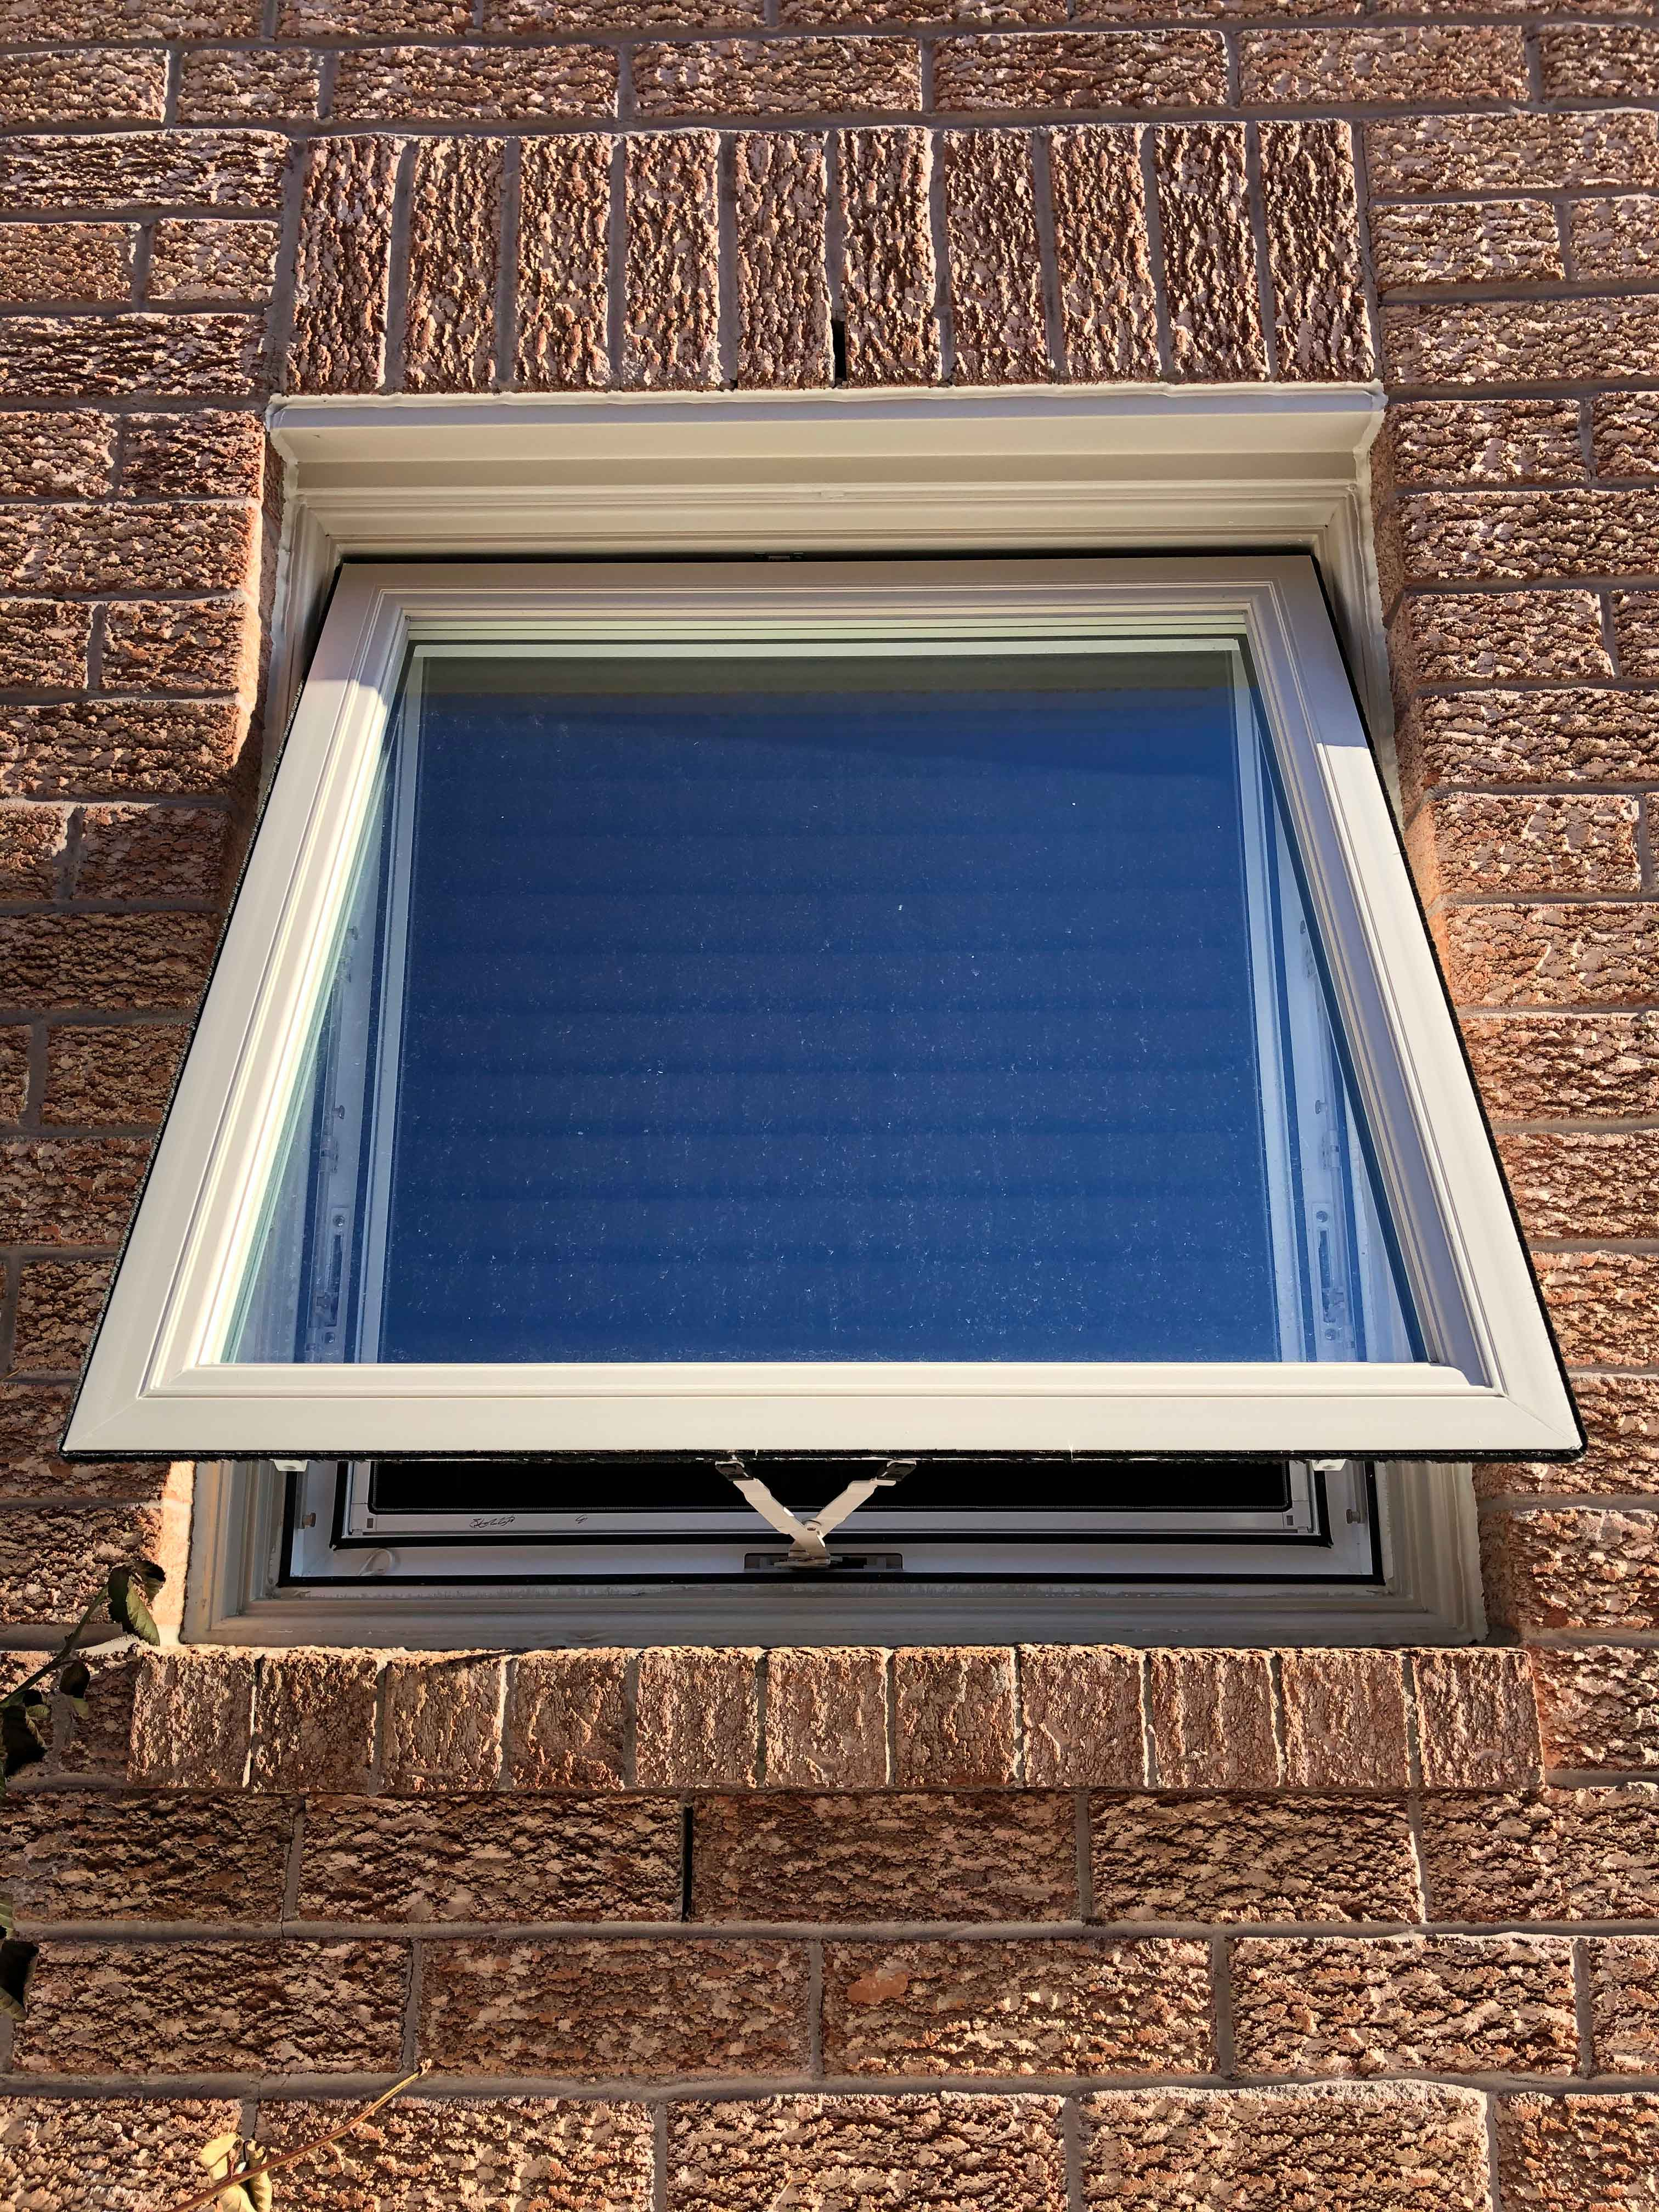C-Window: (65, 342, 1598, 1694)
